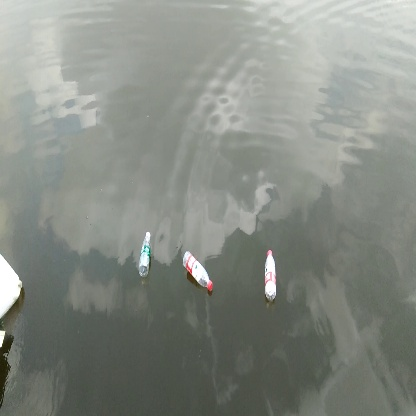bottle: (180, 248, 216, 292), (263, 246, 280, 304), (136, 230, 153, 278)
